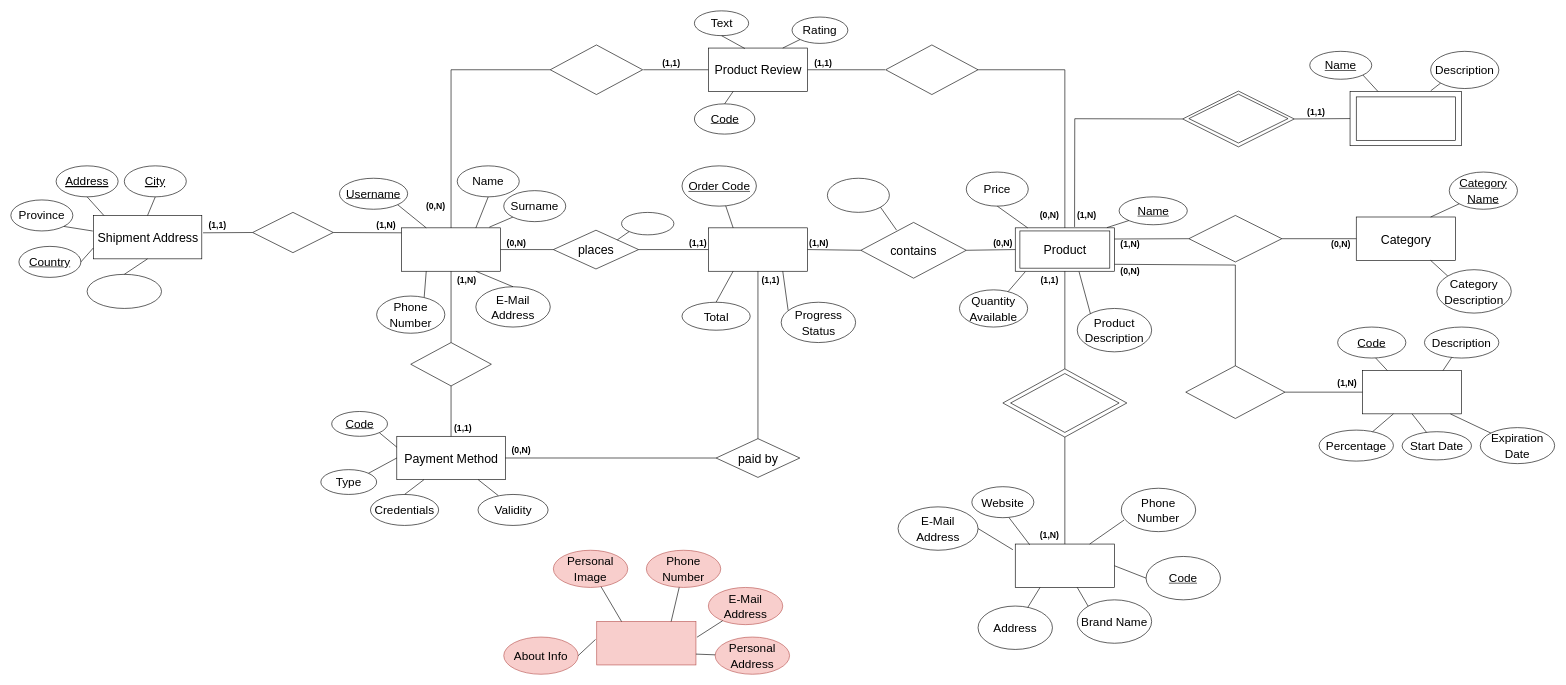
Image size: 1566x685. Some labels were removed from this diagram. Here are the shapes that lost their labels. From the top down, the centre of each, then its label:
At (596,69): "writes".
At (931,69): "reviews".
At (1238,118): "available in".
At (1405,118): "Product Variant".
At (858,195): "Quantity".
At (292,232): "owns".
At (647,223): "Date".
At (1235,238): "belongs to".
At (451,249): "User".
At (758,249): "Order".
At (124,291): "Postal Code".
At (450,364): "pays by".
At (1064,402): "produced by".
At (1235,391): "discounted by".
At (1412,392): "Discount".
At (1064,565): "Brand".
At (646,643): "Customization".
